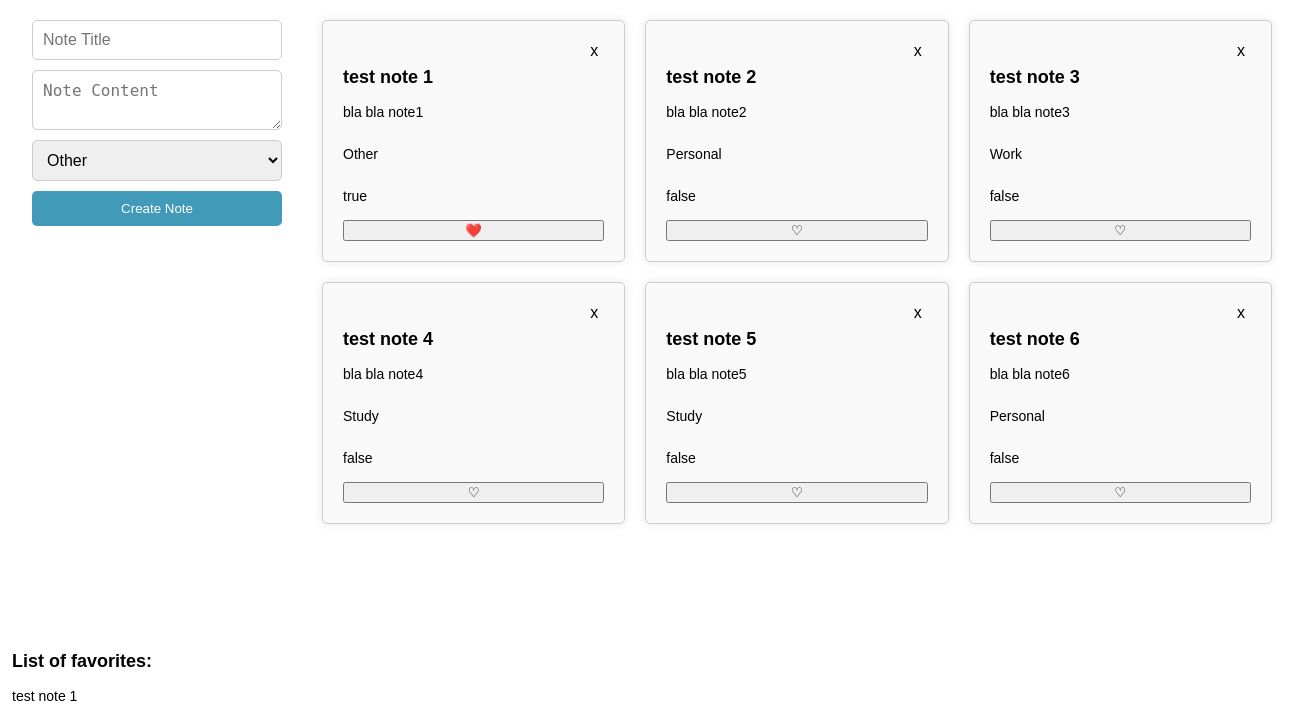
Test: Sticky Notes CRUD Operations › creates a new note
Type "New Note" into the field with placeholder "Note Title" at (157, 40), box left=32, top=20, right=282, bottom=60
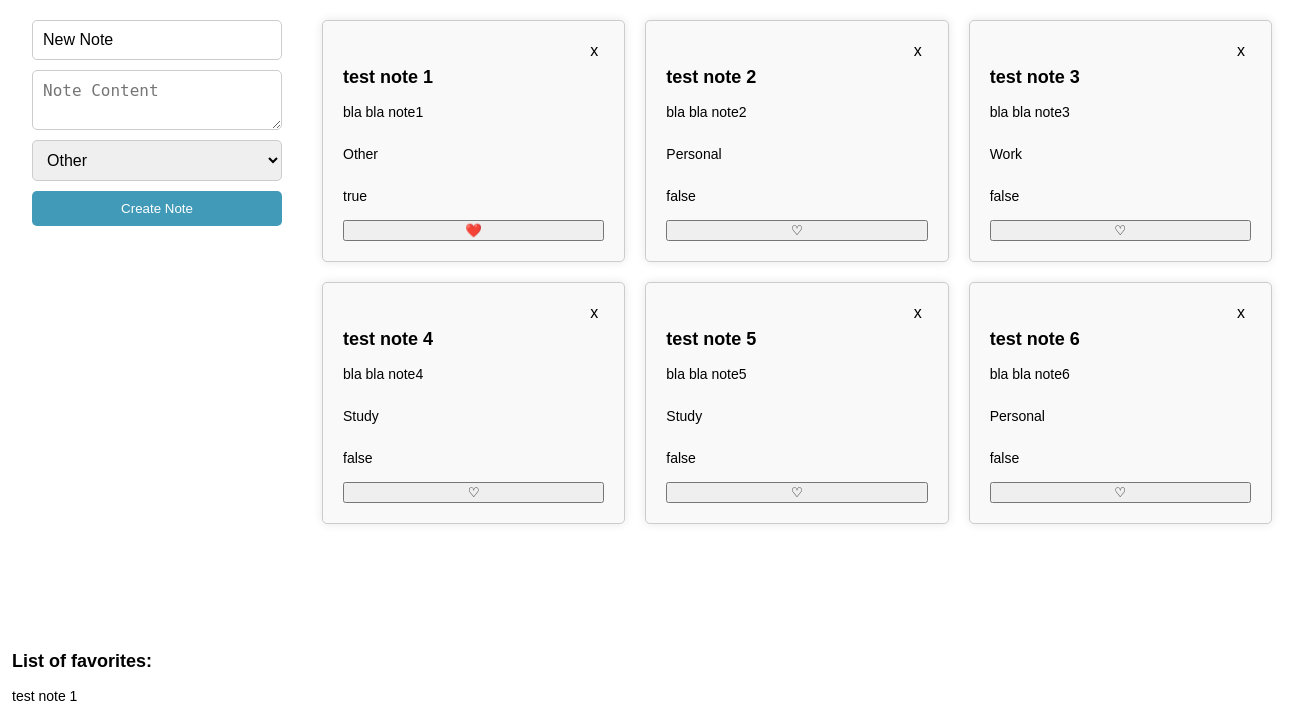
Type "Note content" into the text box with placeholder "Note Content" at (157, 100), box left=32, top=70, right=282, bottom=130
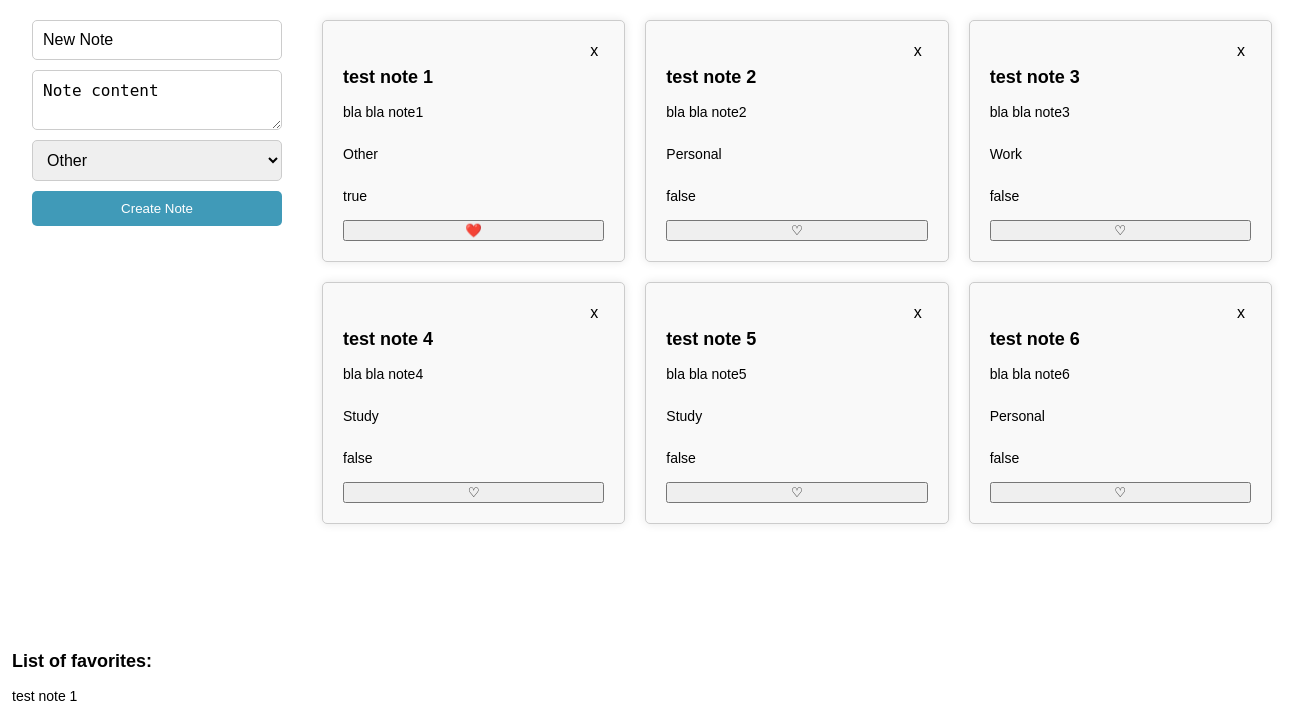
Click the button "Create Note" at (157, 208), box left=32, top=191, right=282, bottom=226
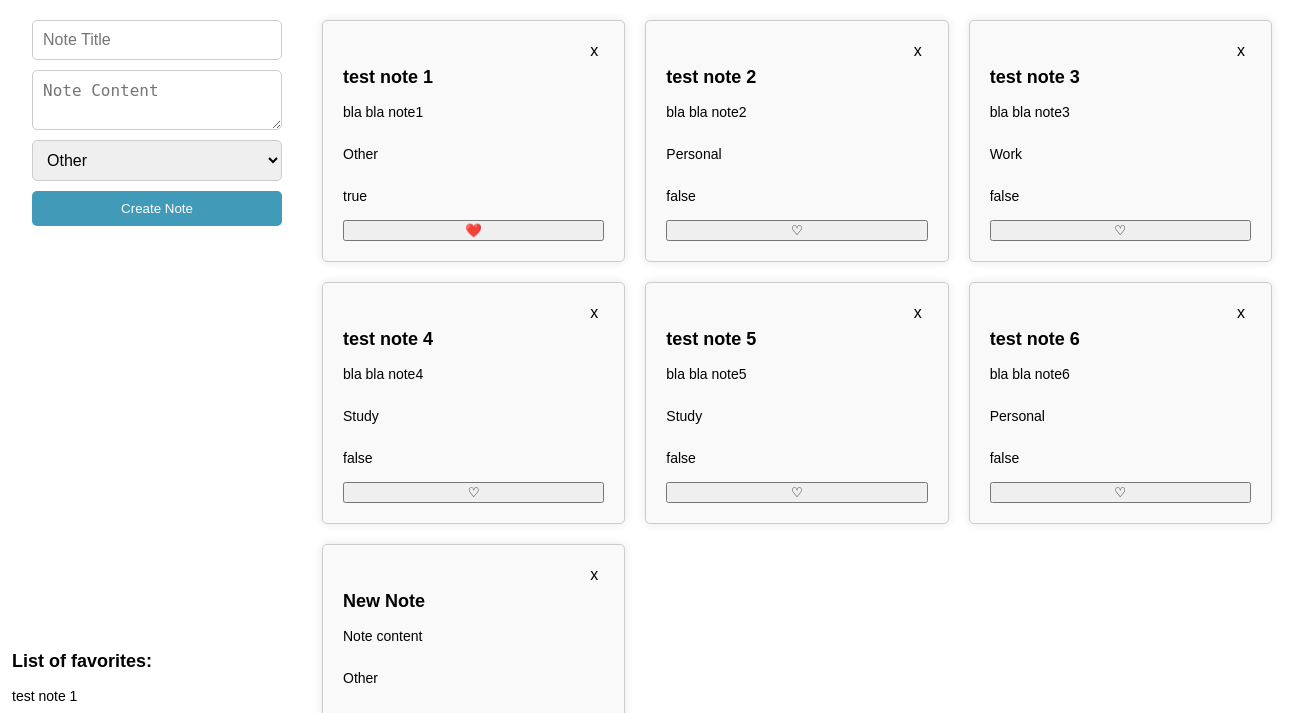
Expected: the heading "New Note" is shown, left=343, top=591, right=425, bottom=611
Expected: the text "Note content" is shown, left=343, top=628, right=422, bottom=644
